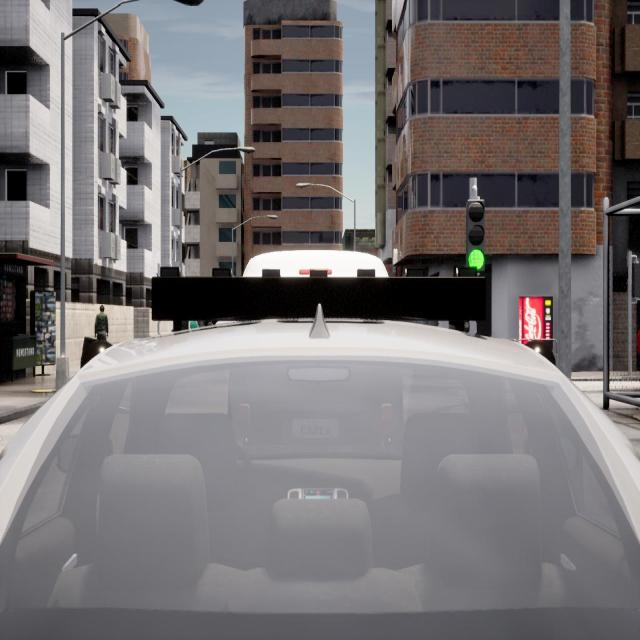Pedestrian: (95, 306, 108, 340)
Vehicle: (0, 321, 640, 637), (242, 250, 388, 277)
traffic_light: (468, 201, 484, 274), (632, 263, 640, 298)
